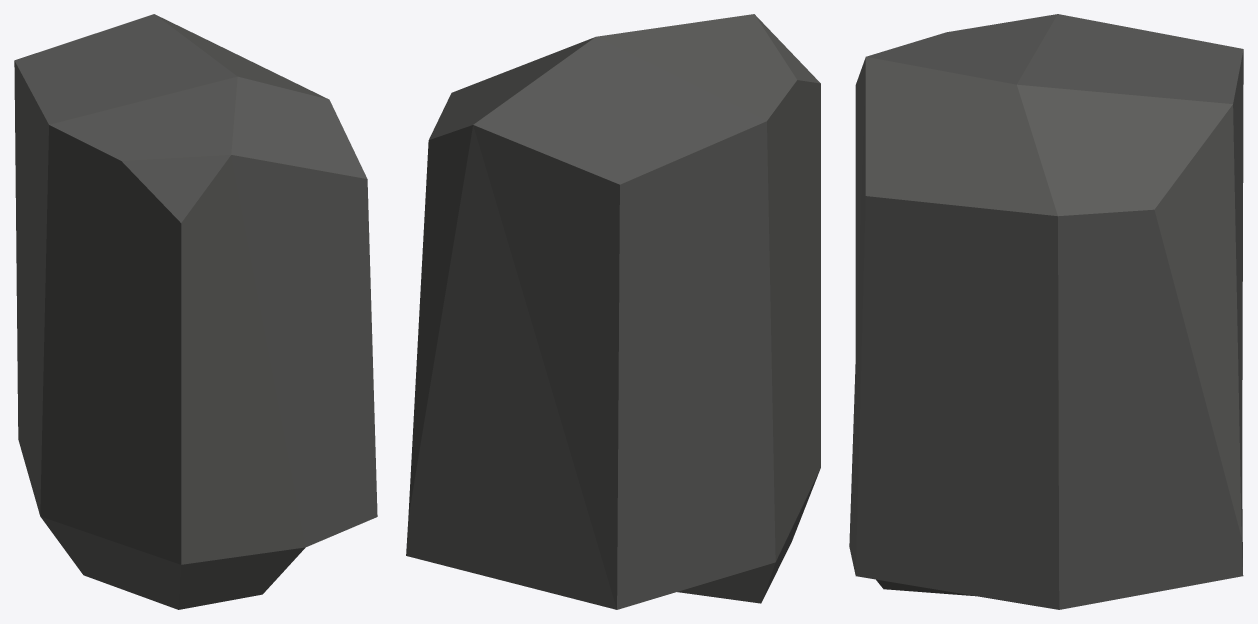
File: worlds_SM_Env_Rock_07.gltf
3 renders of one model, left to right at view 1: azimuth 30°, elevation 25°; view 2: azimuth 150°, elevation 25°; view 3: azimuth 270°, elevation 25°, orthographic. The views are drawn at different scales.
Visible parts, largest first — view 1: SM_Env_Rock_07; view 2: SM_Env_Rock_07; view 3: SM_Env_Rock_07.
Part boxes in pixels (x1,y1,x2,y2): SM_Env_Rock_07: (14,14,377,609); SM_Env_Rock_07: (406,14,820,609); SM_Env_Rock_07: (849,14,1243,609).
Size of the model in its own units: 4.41 by 6.82 by 4.52.
Materials: 1 (1 with a texture image).
